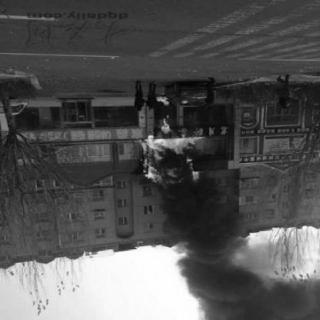Fire: (134, 115, 212, 188), (154, 96, 172, 108)
Smoke: (166, 192, 318, 320)
other: (15, 126, 144, 142), (237, 129, 311, 135)
